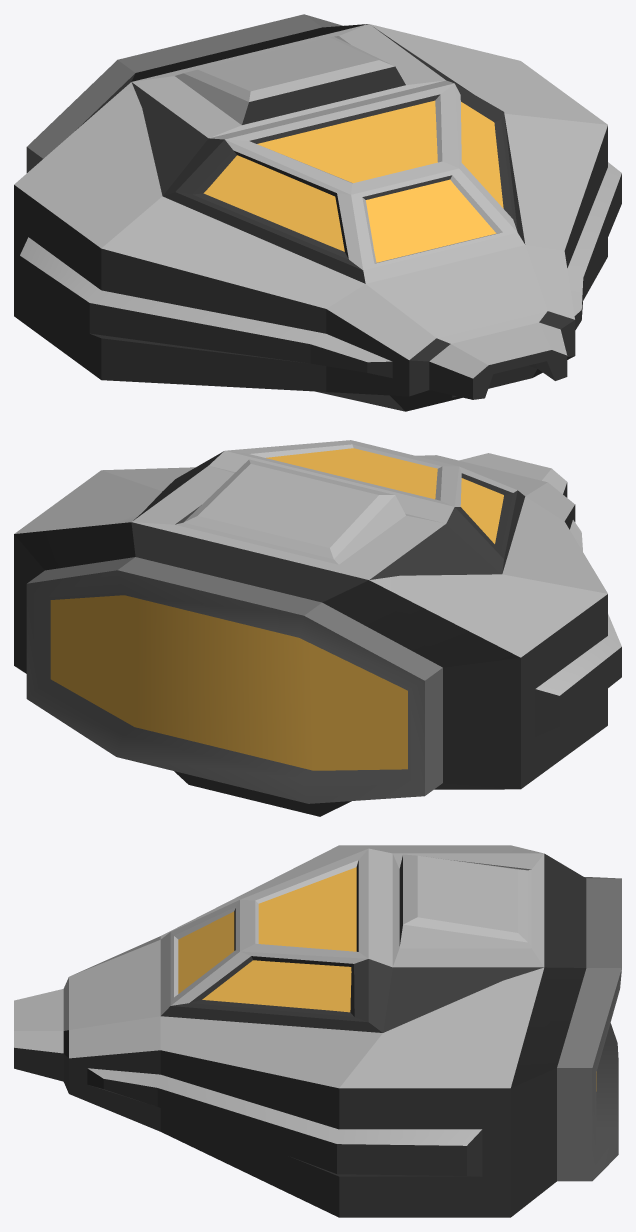
File: Ship_2x2_C1.fbx
3 renders of one model, top to bottom at view 1: azimuth 30°, elevation 25°; view 2: azimuth 150°, elevation 25°; view 3: azimuth 270°, elevation 25°, orthographic.
Parts seen in each view (by area): view 1: Ship_2x2_C1; view 2: Ship_2x2_C1; view 3: Ship_2x2_C1.
Boxes of the visible parts, x1,y1,x2,y2 form: Ship_2x2_C1: (14,14,621,411); Ship_2x2_C1: (14,440,621,816); Ship_2x2_C1: (14,845,621,1217).
Bounding box in the file's own units: 191 × 93.5 × 189.
